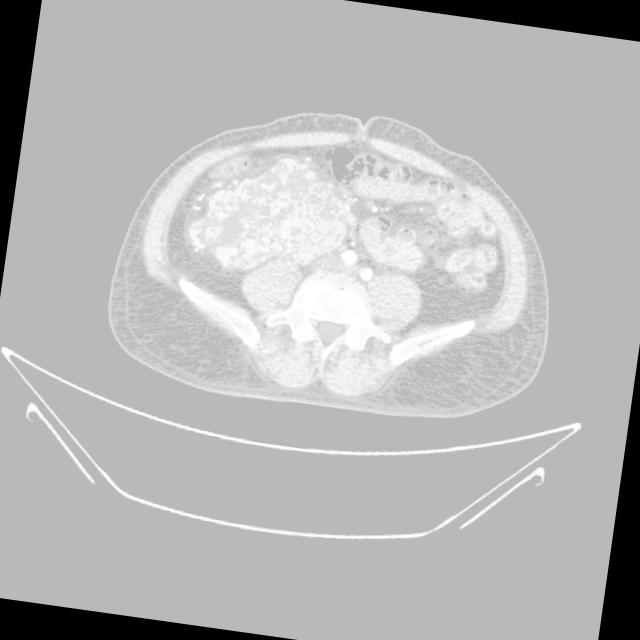TUMOR: (155, 100, 536, 314)
